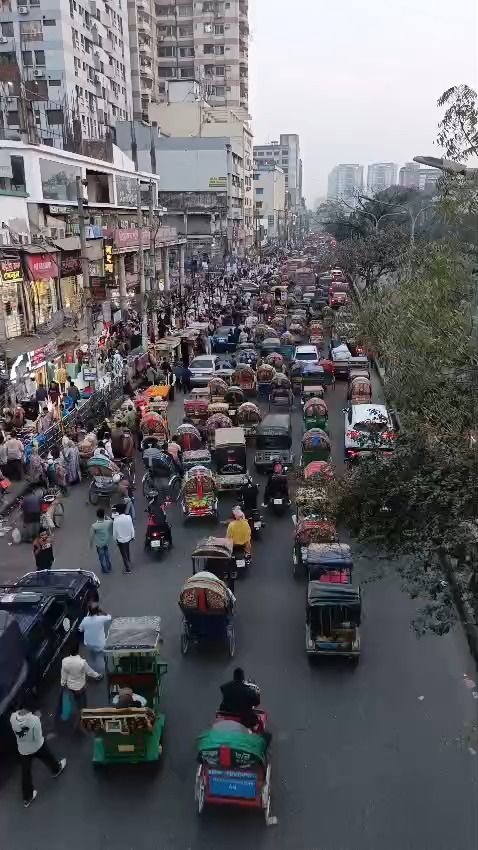Bikes: (139, 490, 176, 559), (261, 453, 293, 514)
auto-ricksaw: (86, 611, 173, 788), (190, 664, 281, 832), (299, 538, 368, 673), (179, 533, 242, 658), (179, 447, 220, 524), (300, 384, 331, 436)
cng: (252, 411, 296, 469), (261, 336, 283, 356)
private car: (340, 400, 399, 463), (186, 351, 223, 385), (293, 340, 321, 366)
